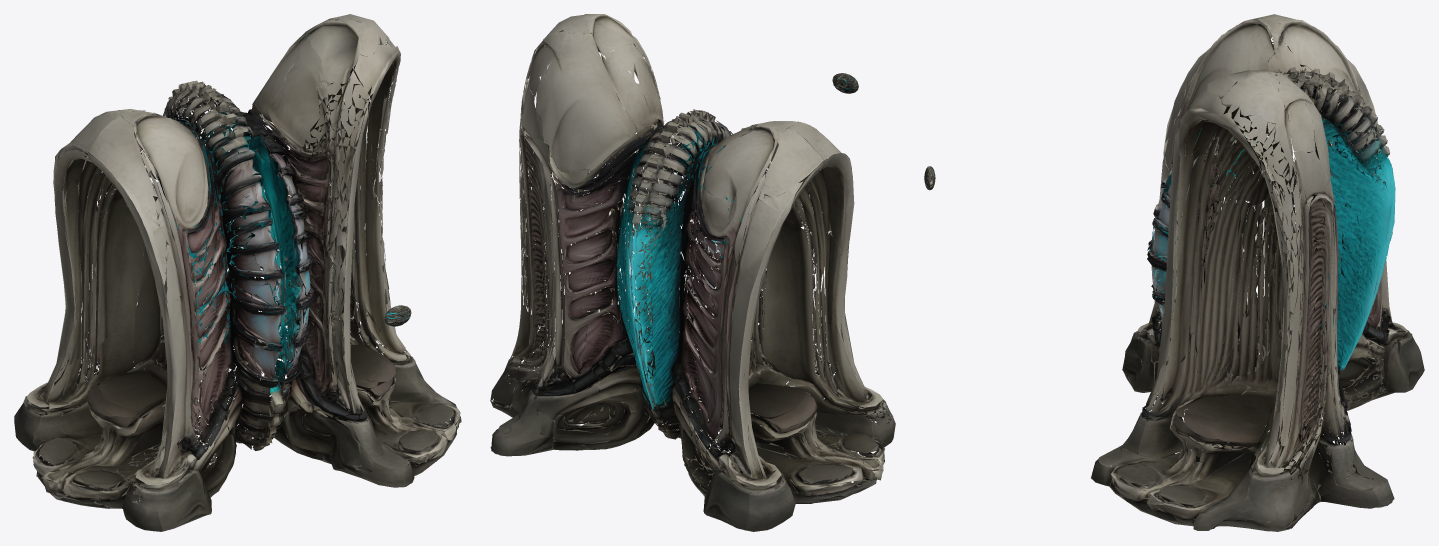
The model's file is vey_covenant_twin_listening_cowl.glb.
3 views of the same model, side by side, from view 1: azimuth 30°, elevation 25°; view 2: azimuth 150°, elevation 25°; view 3: azimuth 270°, elevation 25° (orthographic). The views are drawn at different scales.
Parts seen in each view (by area): view 1: node_0; view 2: node_0; view 3: node_0.
Boxes of the visible parts, bbox=[...] form: node_0: bbox=[14, 14, 461, 531]; node_0: bbox=[490, 14, 895, 531]; node_0: bbox=[1091, 14, 1424, 531].
Bounding box in the file's own units: 0.8419 × 0.8446 × 0.9136.
1 material, 1 textured.
